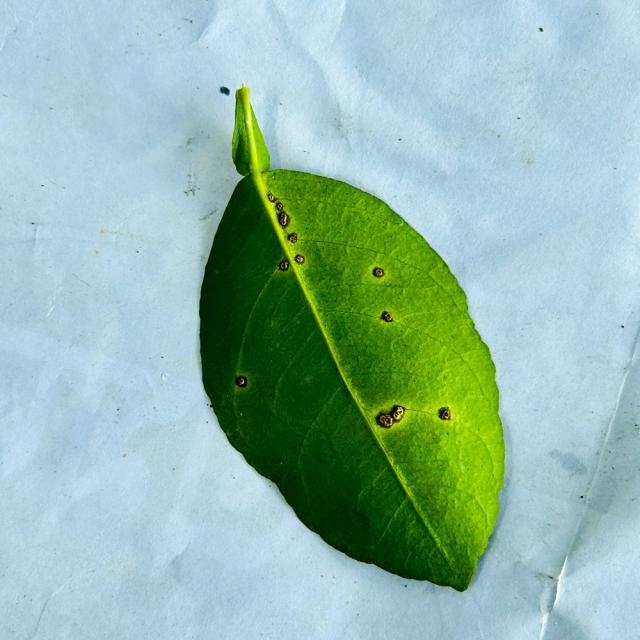Anthracnose: (318, 245, 440, 330), (378, 405, 404, 426), (368, 265, 391, 285), (279, 256, 304, 272), (300, 372, 314, 385), (235, 375, 248, 388), (438, 407, 450, 420), (237, 370, 250, 381), (272, 201, 282, 213), (279, 260, 289, 271), (265, 170, 276, 180), (294, 254, 304, 264), (279, 211, 287, 223), (288, 232, 298, 241), (284, 229, 292, 240), (268, 193, 274, 202)
Lemon: (198, 88, 508, 595)
